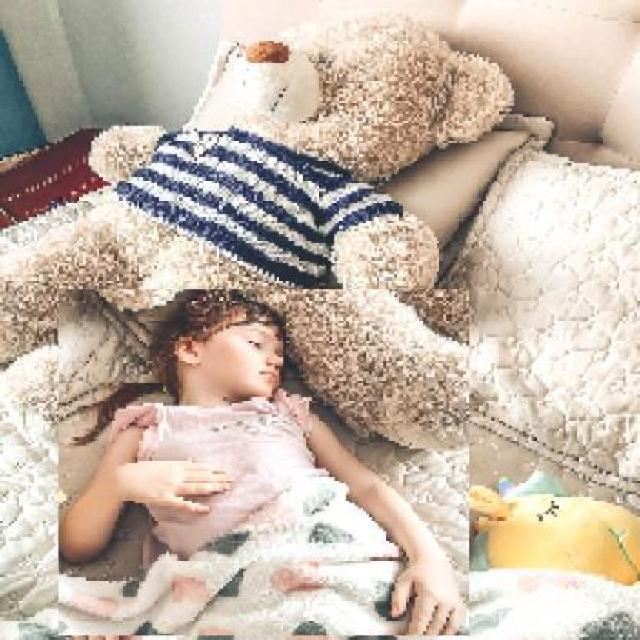child: (57, 289, 469, 637)
